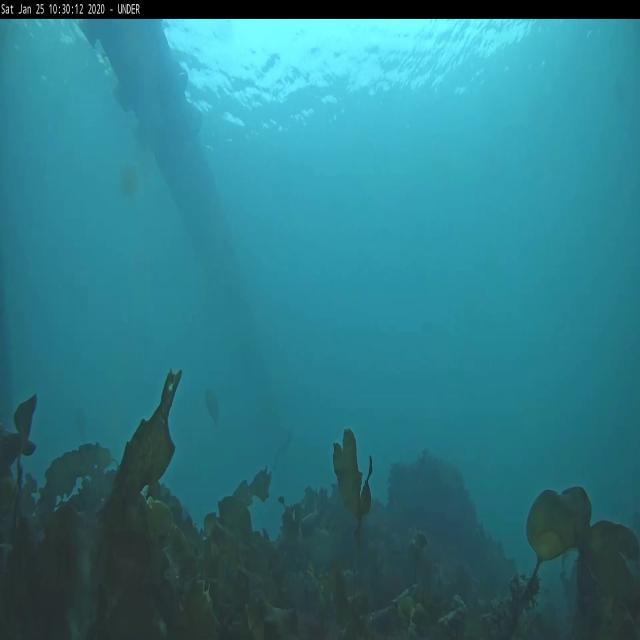fish: (273, 426, 294, 472), (202, 385, 221, 429)
